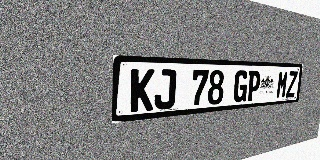7: (189, 70, 209, 107)
8: (207, 70, 225, 105)
G: (233, 70, 249, 103)
J: (154, 69, 177, 110)
K: (130, 69, 155, 112)
M: (276, 71, 289, 99)
P: (246, 70, 261, 101)
Z: (286, 71, 298, 98)
